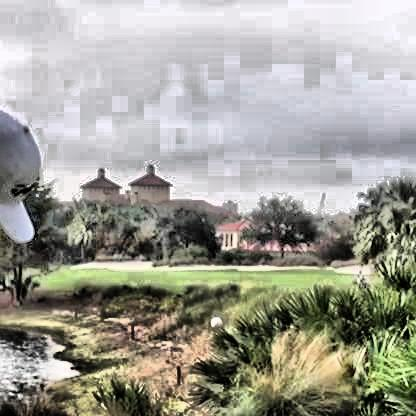golfball: (207, 314, 221, 327)
